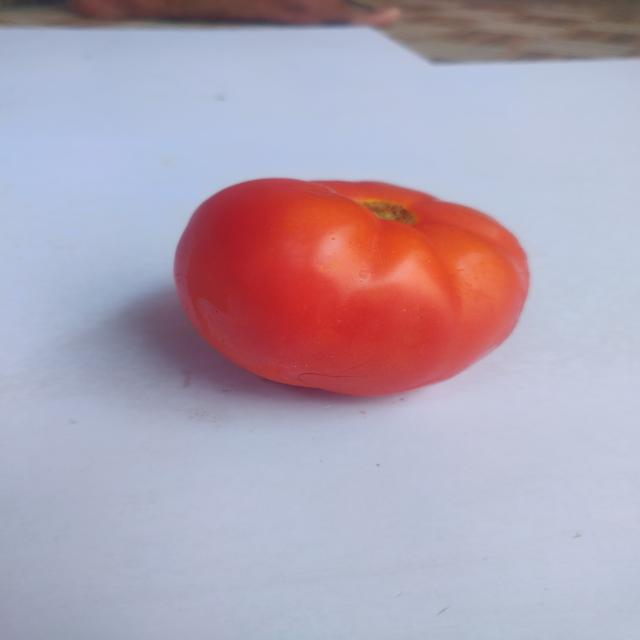Tomato: (156, 170, 543, 405)
